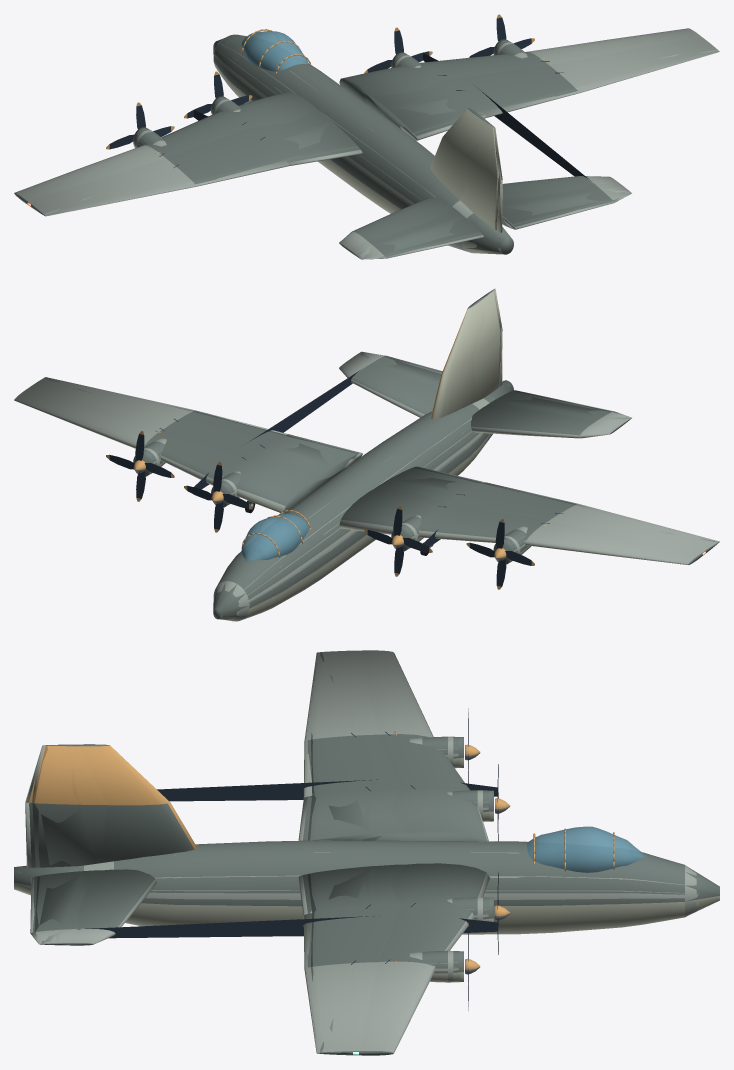
3 renders of one model, top to bottom at view 1: azimuth 30°, elevation 25°; view 2: azimuth 150°, elevation 25°; view 3: azimuth 270°, elevation 25°, orthographic. The views are drawn at different scales.
Parts seen in each view (by area): view 1: Airframe shell mesh, Airframe shell.001 mesh, Airframe shell.002 mesh, Starboard wing, Port wing, Aft nacelles, Canopy glass, Central fuselage, Canopy glass.001, Forward fuselage, Hinged Aileron, Hinged Aileron.001 (+2 smaller); view 2: Airframe shell mesh, Airframe shell.001 mesh, Airframe shell.002 mesh, Starboard wing, Port wing, Central fuselage, Canopy glass, Forward fuselage, Aft nacelles, Canopy glass.001, Prop_1 mesh, Prop_3 mesh; view 3: Airframe shell mesh, Airframe shell.001 mesh, Airframe shell.002 mesh, Starboard wing, Port wing, Aft nacelles, Canopy glass, Forward fuselage, Central fuselage, Canopy glass.001, Drive fairing.003, Drive fairing.001 (+2 smaller).
Part boxes in pixels (box(x1,y1,x2,y2)): Airframe shell mesh: box(14, 28, 701, 258); Airframe shell.001 mesh: box(14, 29, 714, 259); Airframe shell.002 mesh: box(14, 37, 717, 258); Starboard wing: box(423, 16, 718, 199); Port wing: box(21, 104, 383, 257); Aft nacelles: box(366, 117, 612, 256); Canopy glass: box(241, 31, 308, 71); Central fuselage: box(193, 27, 496, 211); Canopy glass.001: box(243, 31, 308, 71); Forward fuselage: box(214, 29, 309, 100); Hinged Aileron: box(44, 160, 289, 216); Hinged Aileron.001: box(483, 50, 719, 117); Airframe shell mesh: box(14, 293, 705, 621); Airframe shell.001 mesh: box(15, 289, 714, 618); Airframe shell.002 mesh: box(33, 290, 717, 621); Starboard wing: box(35, 352, 383, 501); Port wing: box(423, 412, 719, 589); Central fuselage: box(193, 425, 495, 571); Canopy glass: box(241, 513, 308, 559); Forward fuselage: box(213, 510, 327, 619); Aft nacelles: box(366, 291, 612, 474); Canopy glass.001: box(242, 514, 308, 559); Prop_1 mesh: box(467, 520, 533, 587); Prop_3 mesh: box(106, 433, 172, 499); Airframe shell mesh: box(14, 650, 719, 1055); Airframe shell.001 mesh: box(14, 650, 698, 1055); Airframe shell.002 mesh: box(14, 650, 719, 1054); Starboard wing: box(35, 915, 498, 1054); Port wing: box(157, 651, 498, 801); Aft nacelles: box(14, 746, 209, 932); Canopy glass: box(527, 826, 641, 872); Forward fuselage: box(517, 826, 719, 928); Central fuselage: box(209, 769, 517, 954); Canopy glass.001: box(527, 826, 636, 872); Drive fairing.003: box(408, 950, 463, 982); Drive fairing.001: box(408, 736, 463, 768).
Size of the model in its own units: 40.53 by 8.75 by 30.1.
